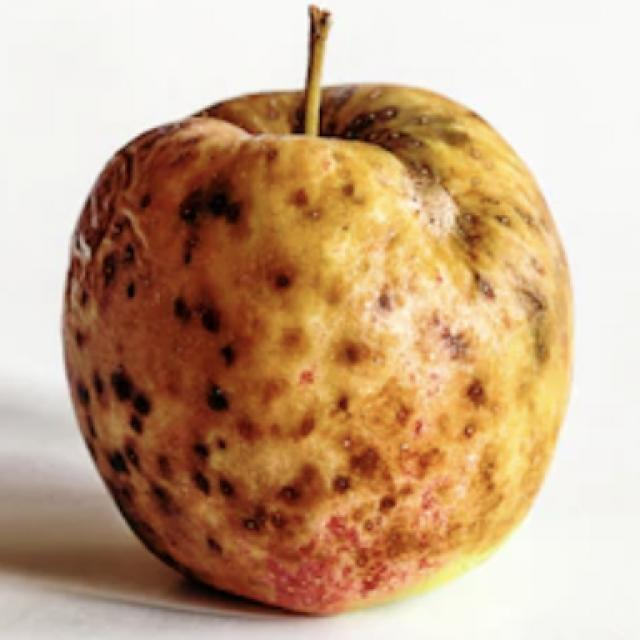Rotten: (60, 82, 552, 605)
